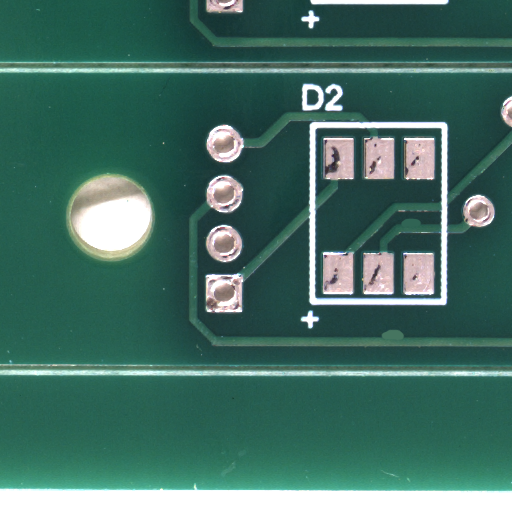Spur: (390, 334, 419, 348), (410, 222, 437, 233)
